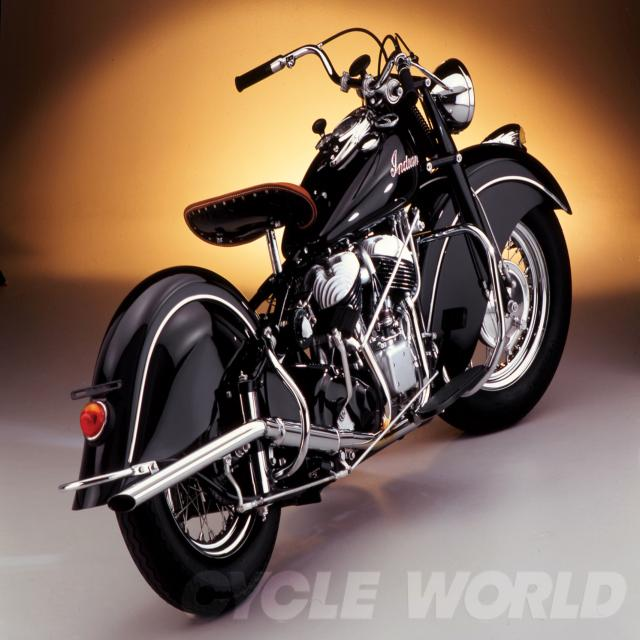motorcycle: (66, 28, 571, 615)
